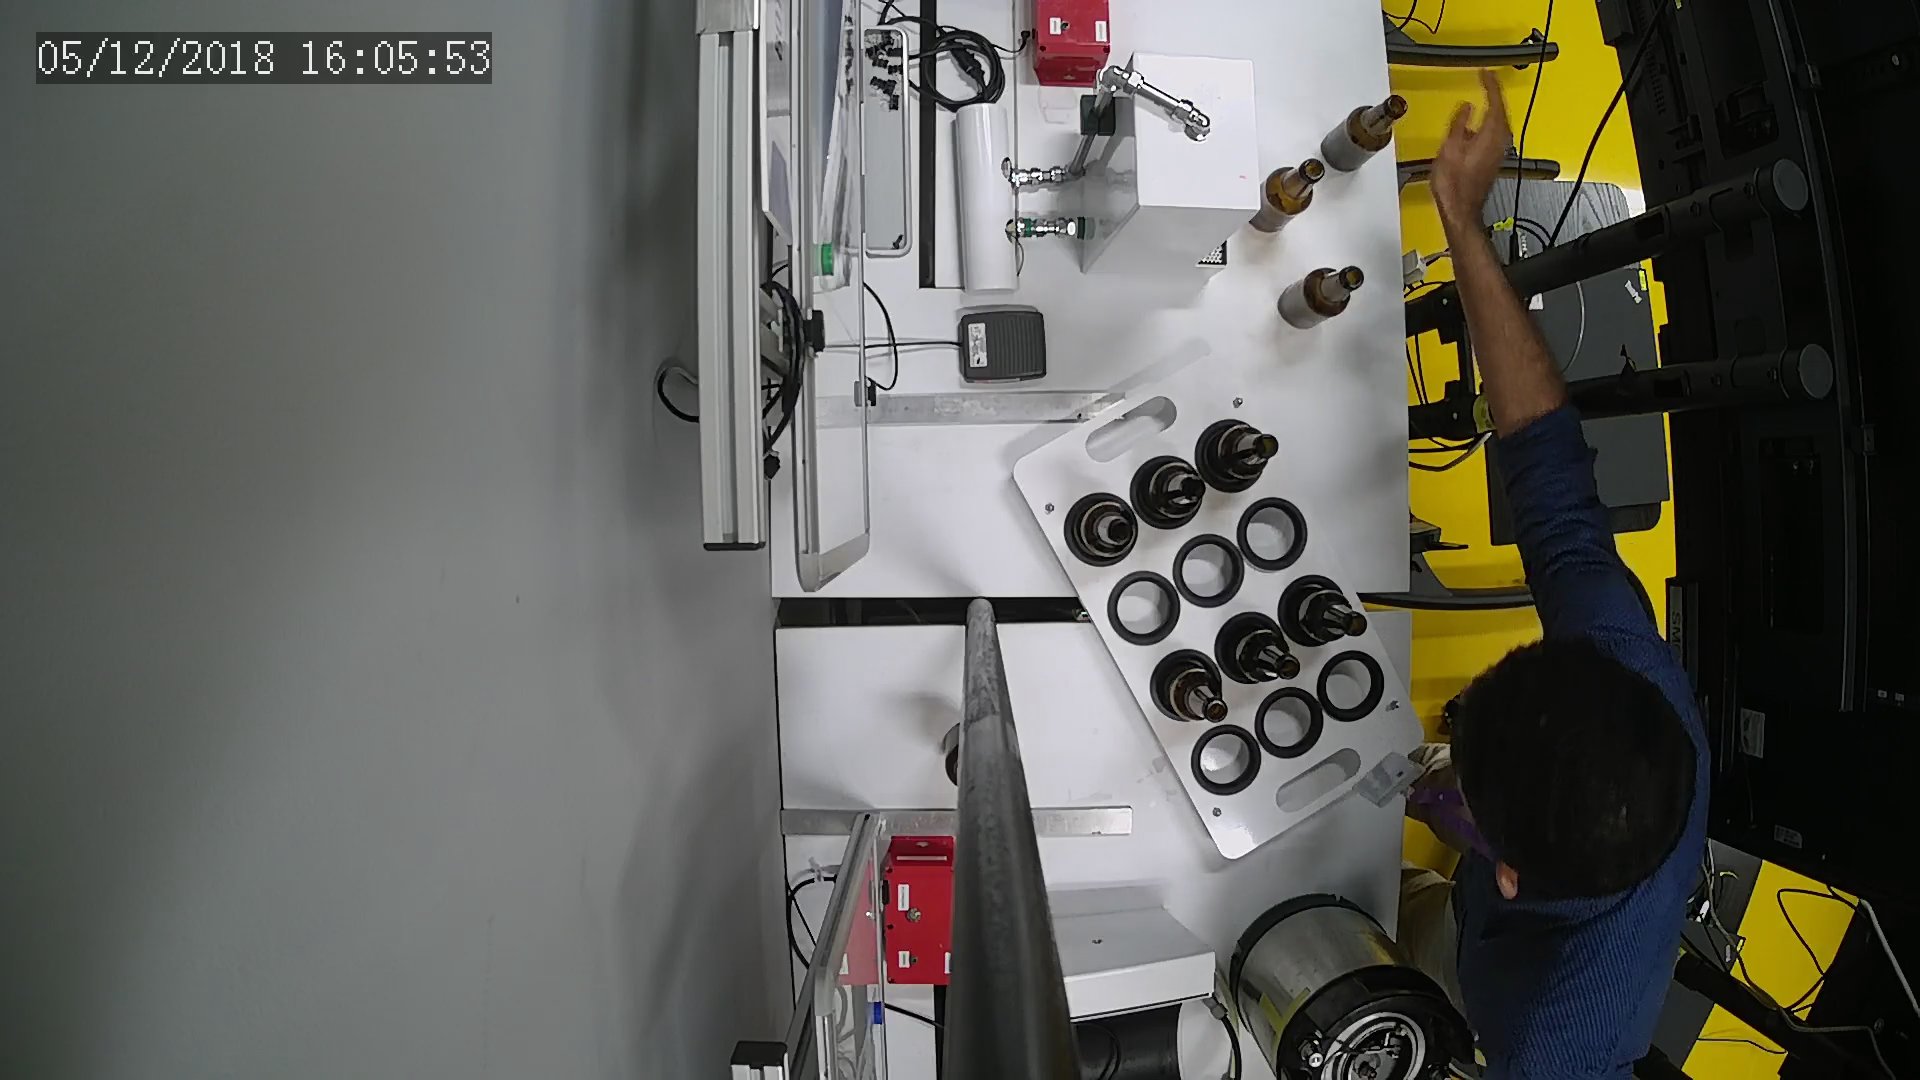filled_bottle: (1216, 613, 1303, 688), (1151, 649, 1229, 731), (1283, 578, 1370, 647), (1068, 491, 1141, 563), (1199, 419, 1278, 483), (1135, 455, 1208, 520)
trolley: (1011, 357, 1425, 861)
unfilled_bottle: (1320, 95, 1404, 171), (1279, 265, 1362, 330), (1253, 157, 1323, 233)
